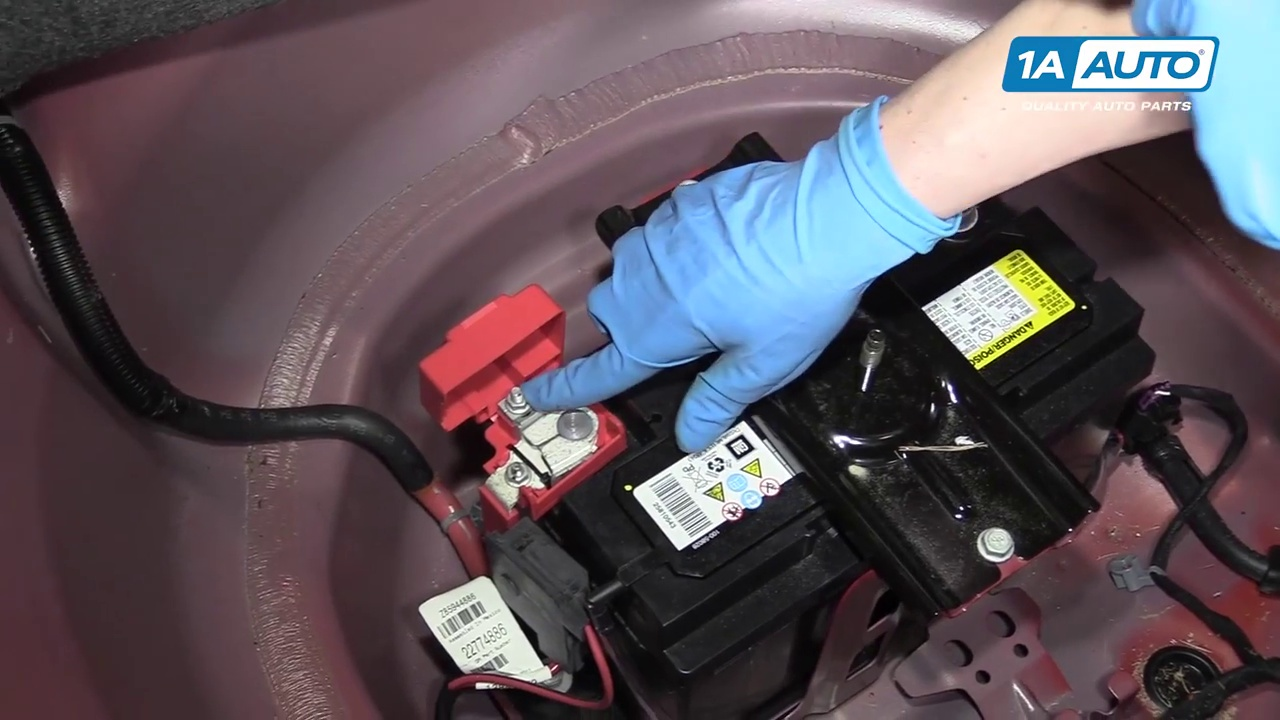battery: (498, 153, 1166, 644)
pos_connected: (430, 303, 617, 515)
pos_touched: (495, 248, 785, 499)
